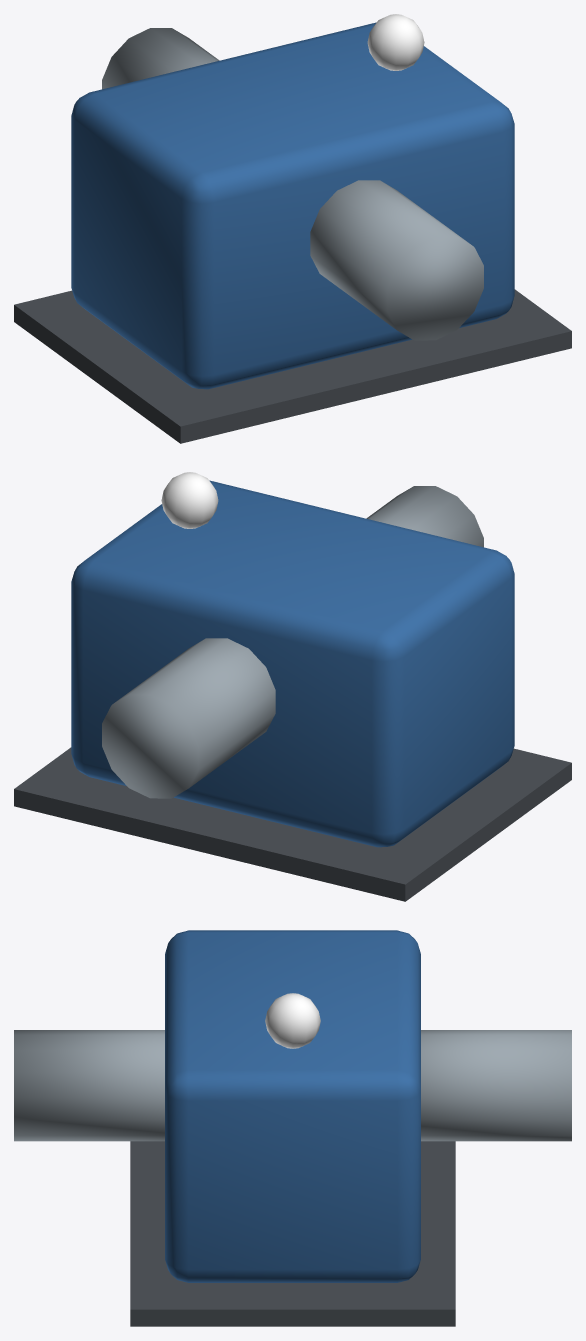
File: pump.glb
3 renders of one model, top to bottom at view 1: azimuth 30°, elevation 25°; view 2: azimuth 150°, elevation 25°; view 3: azimuth 270°, elevation 25°, orthographic. The views are drawn at different scales.
Visible parts, largest first — view 1: Body, Light; view 2: Body, Light; view 3: Body, Light.
Part boxes in pixels (x1,y1,x2,y2): Body: (14,22,571,443); Light: (367,14,424,70); Body: (14,480,571,901); Light: (161,472,218,528); Body: (14,930,571,1326); Light: (265,993,320,1048).
Size of the model in its own units: 0.95 by 0.68 by 1.2.
